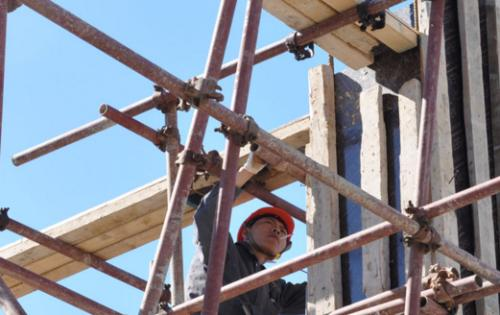hard-hat: (237, 207, 295, 253)
person: (187, 143, 320, 314)
